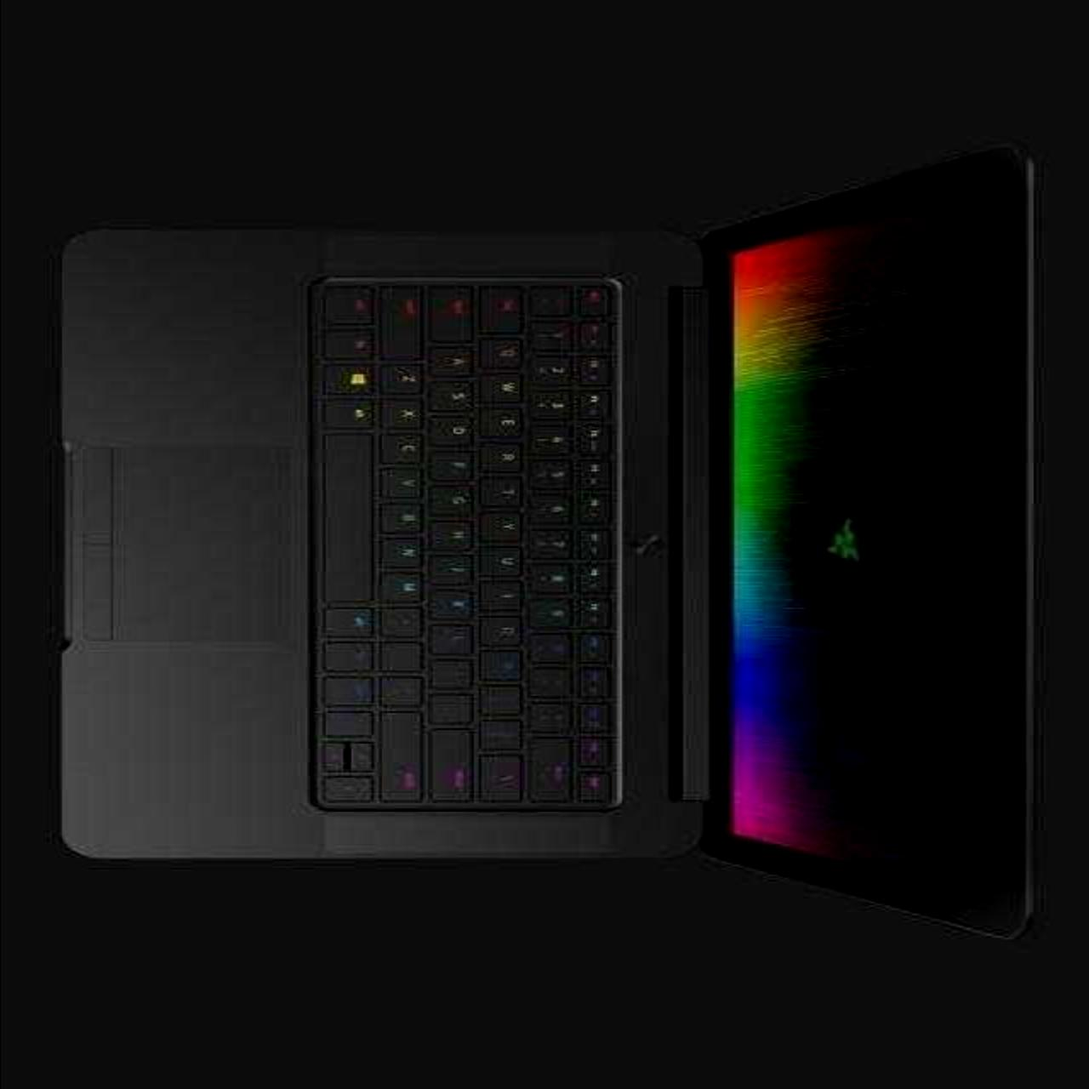laptop: (44, 165, 1035, 880)
